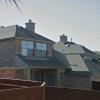Chimney: (23, 15, 40, 36)
